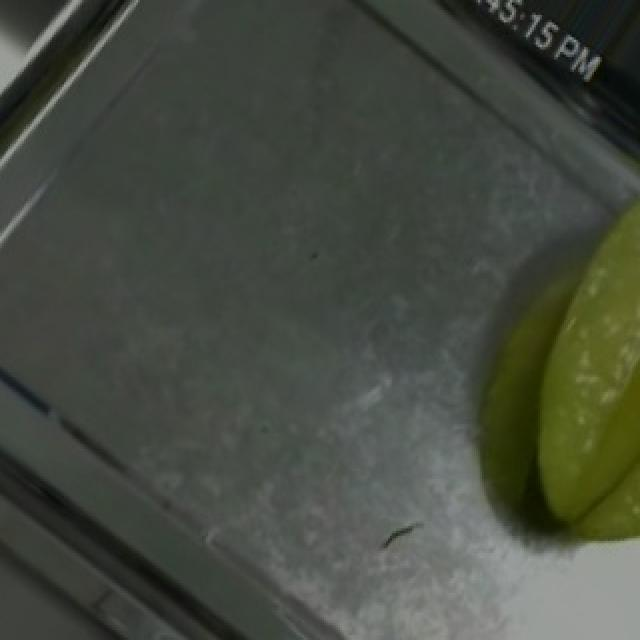fruit: (490, 188, 640, 560)
